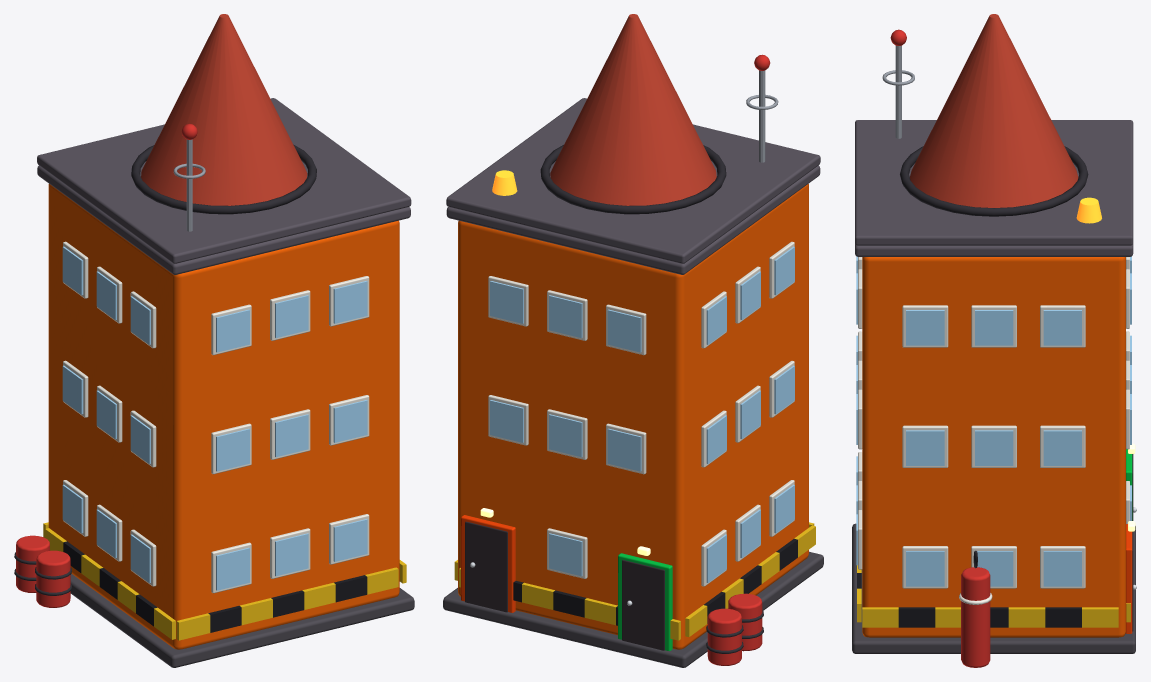
Rendered from building_blasting_academy_t3.glb.
The picture shows the model from 3 angles, left to right: view 1: azimuth 30°, elevation 25°; view 2: azimuth 150°, elevation 25°; view 3: azimuth 270°, elevation 25°; orthographic projection.
Parts seen in each view (by area): view 1: Walls, Roof.Parapet, BoomCone, Plinth, Roof.Slab, BoomRing, Drum2.Drum, WinB0.Pane.002, WinB1.Pane.002, WinB2.Pane.002, WinB2.Pane, WinB0.Pane.001 (+28 smaller); view 2: Walls, Roof.Parapet, BoomCone, Plinth, Roof.Slab, Exit.Leaf, Entry.Leaf, BoomRing, Drum1.Drum, Entry.Frame, Exit.Frame, Win2.Pane (+27 smaller); view 3: Walls, Roof.Parapet, BoomCone, Plinth, Roof.Slab, Dynamite, BoomRing, WinR0.Pane, WinR0.Pane.002, WinR1.Pane, WinR1.Pane.001, WinR1.Pane.002 (+22 smaller).
Boxes of the visible parts, x1,y1,x2,y2 form: Walls: [48, 184, 399, 649]; Roof.Parapet: [37, 98, 411, 263]; BoomCone: [141, 14, 307, 205]; Plinth: [70, 574, 414, 667]; Roof.Slab: [37, 165, 410, 274]; BoomRing: [131, 144, 316, 214]; Drum2.Drum: [36, 550, 70, 607]; WinB0.Pane.002: [333, 519, 367, 561]; WinB1.Pane.002: [333, 400, 367, 442]; WinB2.Pane.002: [333, 281, 367, 323]; WinB2.Pane: [216, 309, 249, 352]; WinB0.Pane.001: [275, 533, 308, 576]; Walls: [458, 184, 808, 649]; Roof.Parapet: [446, 98, 820, 263]; BoomCone: [550, 14, 716, 205]; Plinth: [443, 551, 823, 667]; Roof.Slab: [446, 165, 820, 274]; Exit.Leaf: [465, 521, 507, 612]; Entry.Leaf: [622, 560, 664, 650]; BoomRing: [540, 145, 726, 214]; Drum1.Drum: [707, 608, 741, 665]; Entry.Frame: [618, 553, 672, 651]; Exit.Frame: [461, 515, 515, 612]; Win2.Pane: [607, 309, 641, 352]; Walls: [862, 257, 1125, 637]; Roof.Parapet: [855, 120, 1133, 245]; BoomCone: [910, 14, 1078, 207]; Plinth: [852, 523, 1135, 653]; Roof.Slab: [855, 243, 1133, 256]; Dynamite: [961, 567, 990, 667]; BoomRing: [900, 146, 1088, 216]; WinR0.Pane: [906, 551, 944, 586]; WinR0.Pane.002: [1043, 551, 1081, 586]; WinR1.Pane: [906, 430, 944, 465]; WinR1.Pane.001: [975, 430, 1013, 465]; WinR1.Pane.002: [1043, 430, 1081, 465].
Bounding box in the file's own units: 3.94 × 6.98 × 3.11.
